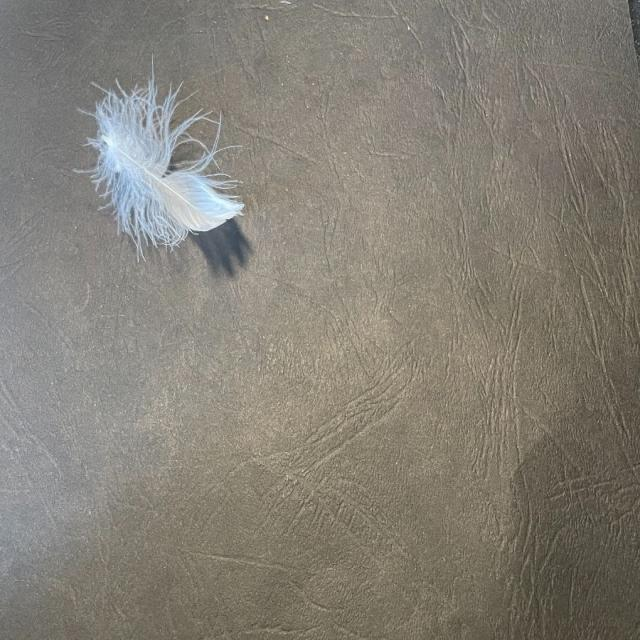feather: (72, 77, 254, 252)
